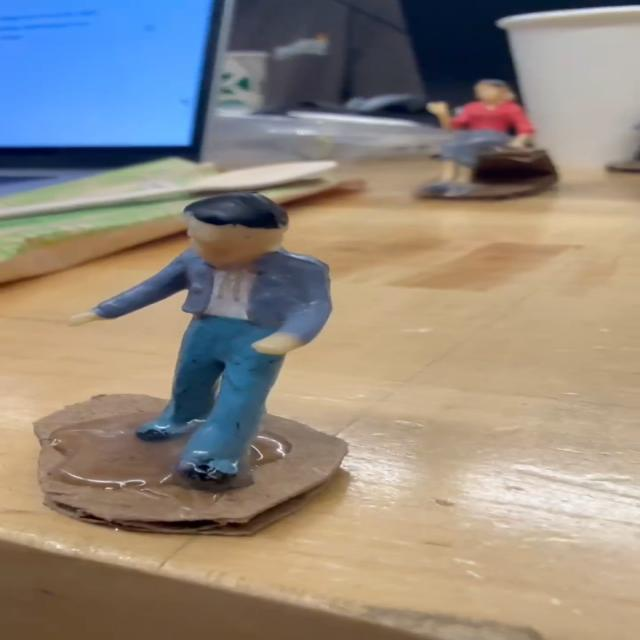Authorized: (52, 190, 343, 494)
